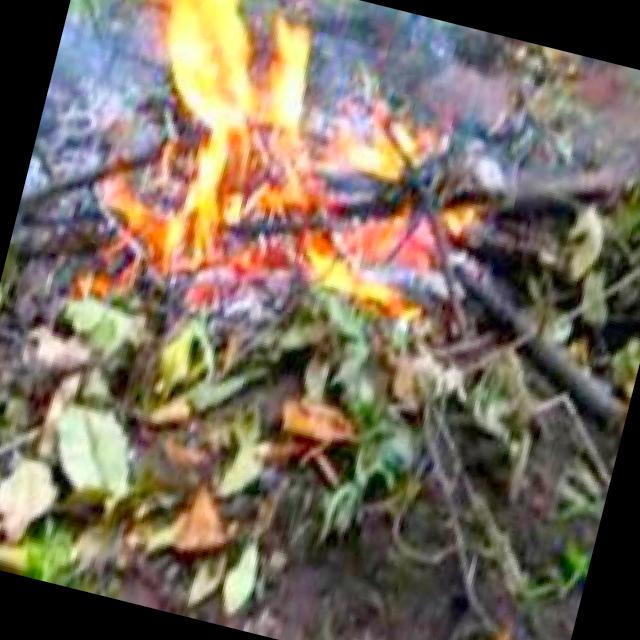fire: (74, 0, 456, 321)
